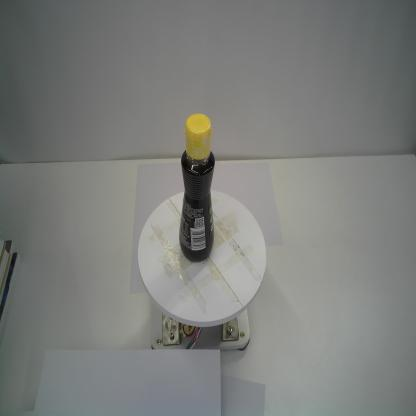Seasoner: (178, 111, 216, 264)
